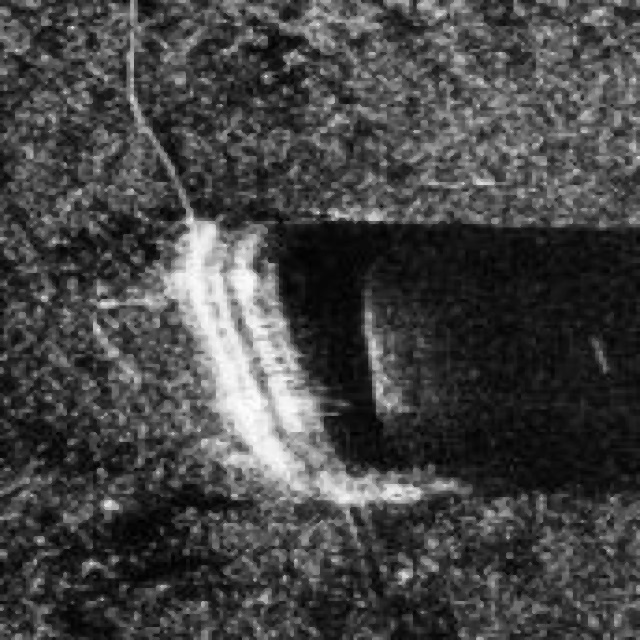Ship: (160, 204, 506, 514)
